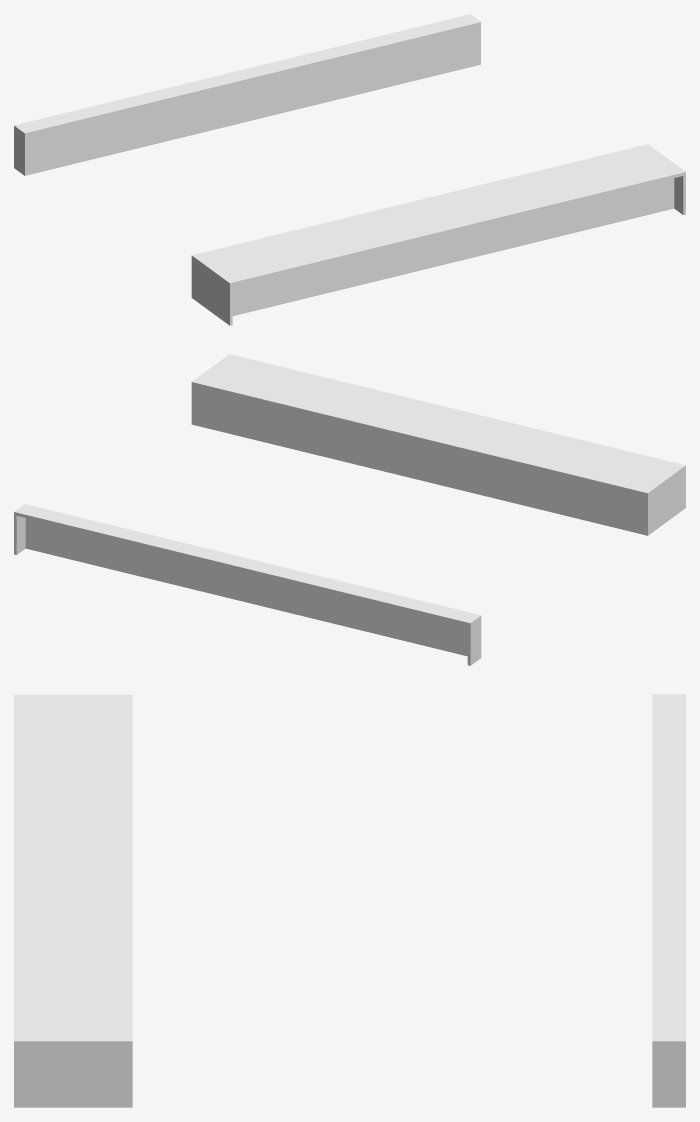
File: Prop1.glb
The picture shows the model from 3 angles, top to bottom: view 1: azimuth 30°, elevation 25°; view 2: azimuth 150°, elevation 25°; view 3: azimuth 270°, elevation 25°; orthographic projection. The views are drawn at different scales.
Visible parts, largest first — view 1: Prop1; view 2: Prop1; view 3: Prop1.
Part boxes in pixels (x1=…): Prop1: x1=14, y1=14, x2=685, y2=325; Prop1: x1=14, y1=354, x2=685, y2=665; Prop1: x1=14, y1=694, x2=685, y2=1107.
Bounding box in the file's own units: 278 × 24.77 × 227.
Materials: 1 (1 with a texture image).
